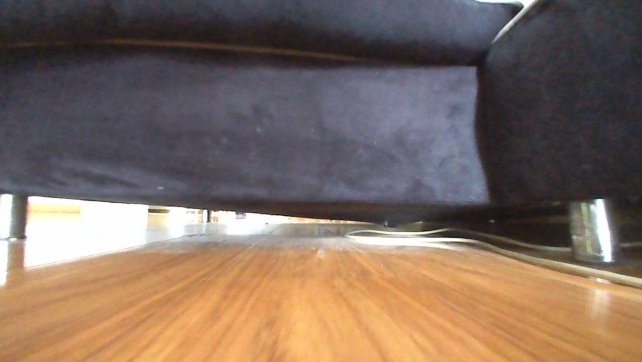sofa1: (0, 0, 641, 254)
wire: (340, 223, 641, 289)
